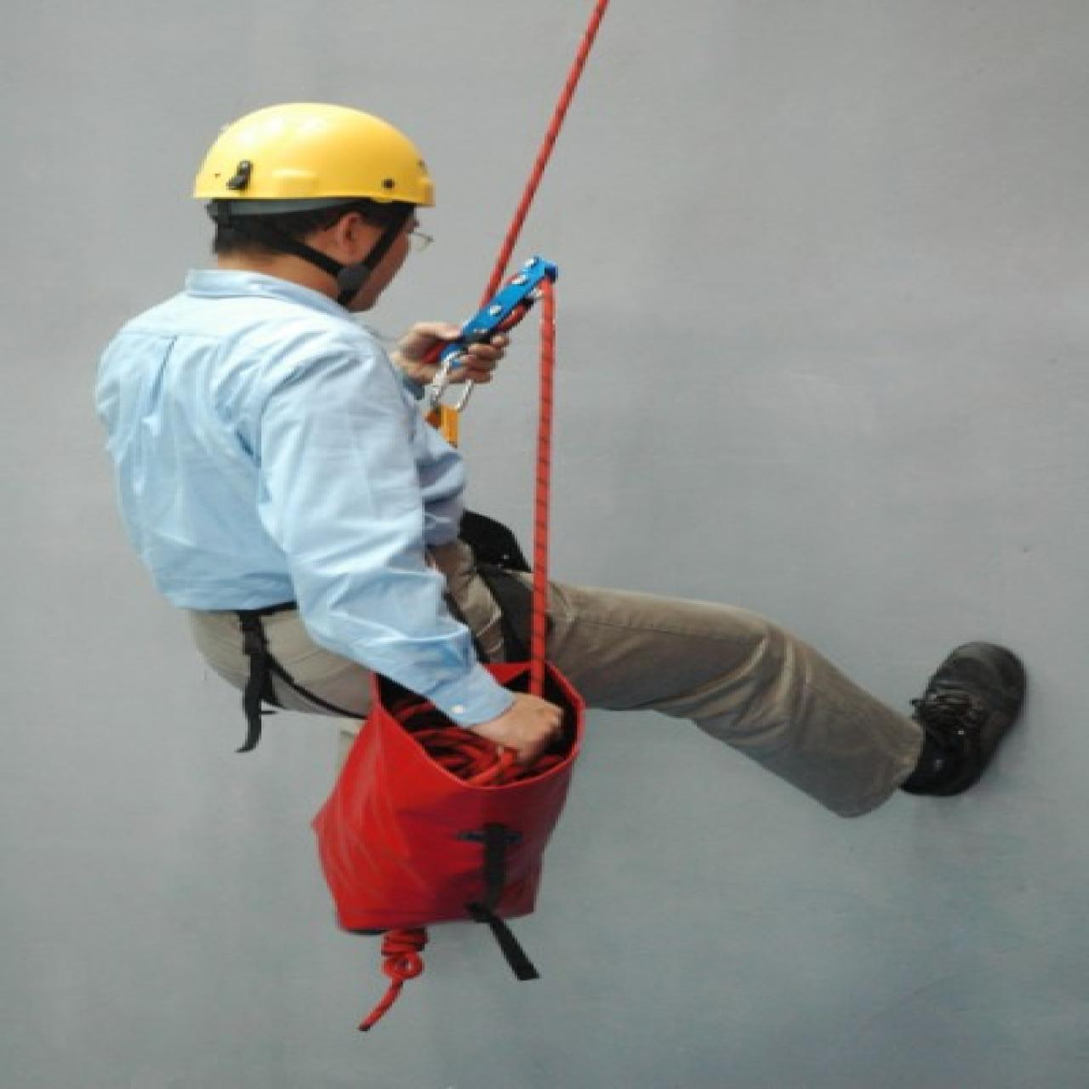NO_Safety_Vest: (88, 278, 508, 626)
Person: (73, 93, 1056, 881)
